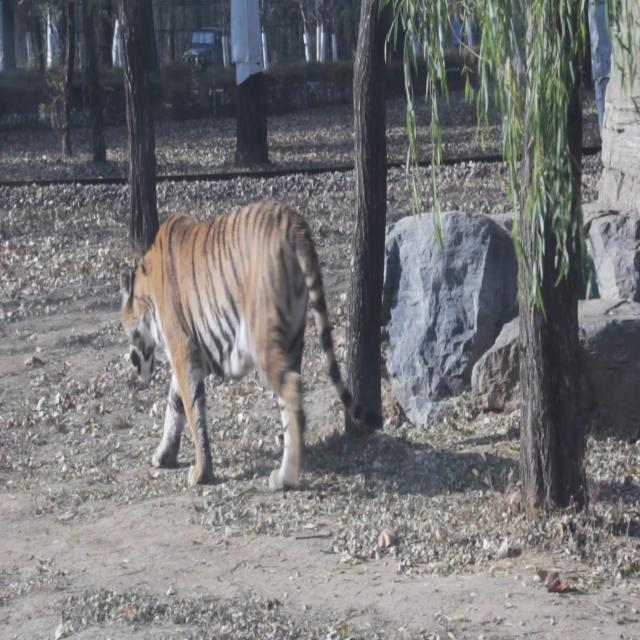Tiger: (112, 191, 362, 498)
